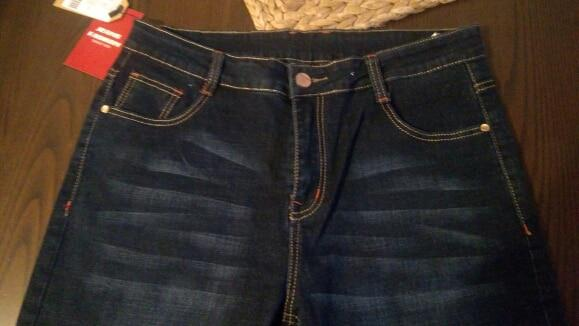jeans: (47, 19, 536, 321)
